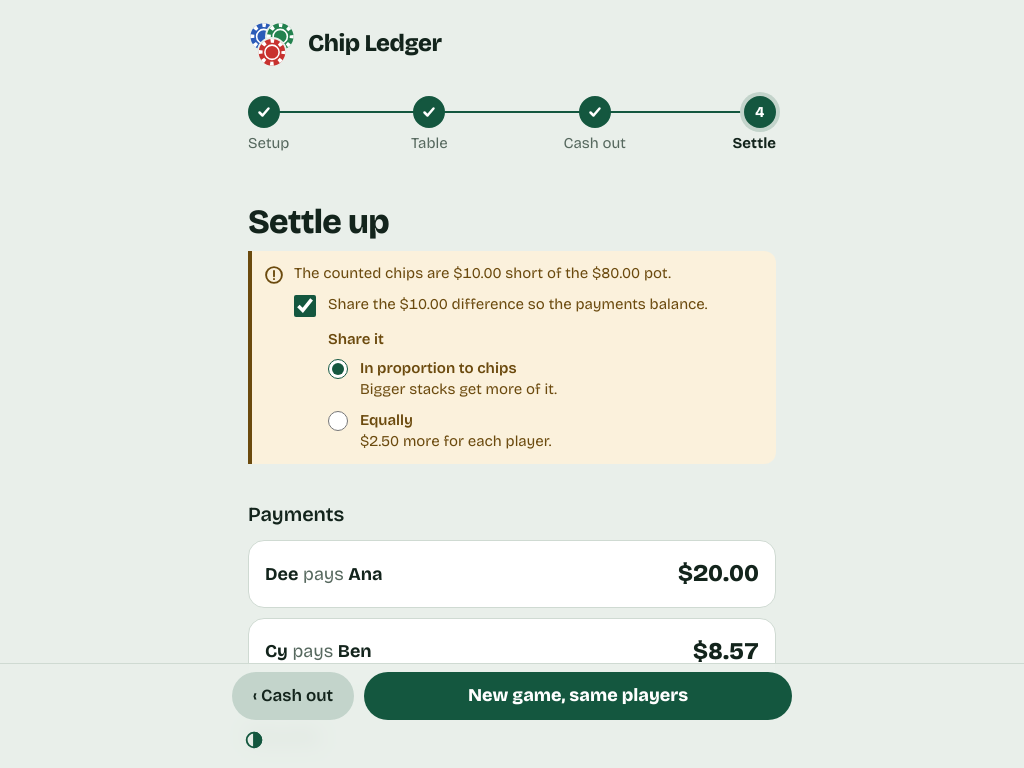
Scenario: ChipLedgerApp › REQ-0001-18 … -22: settles, toggles spreading, and copies results
expect the heading "Settle up" is shown: met, box [248,201,389,242]
expect the text "The counted chips are $10.00 short of the $80.00 pot." is shown: met, box [294,264,671,282]
Click the radio button labelled "Equally $2.50 more for each player.". click: [338, 421]
box: [328,411,348,431]
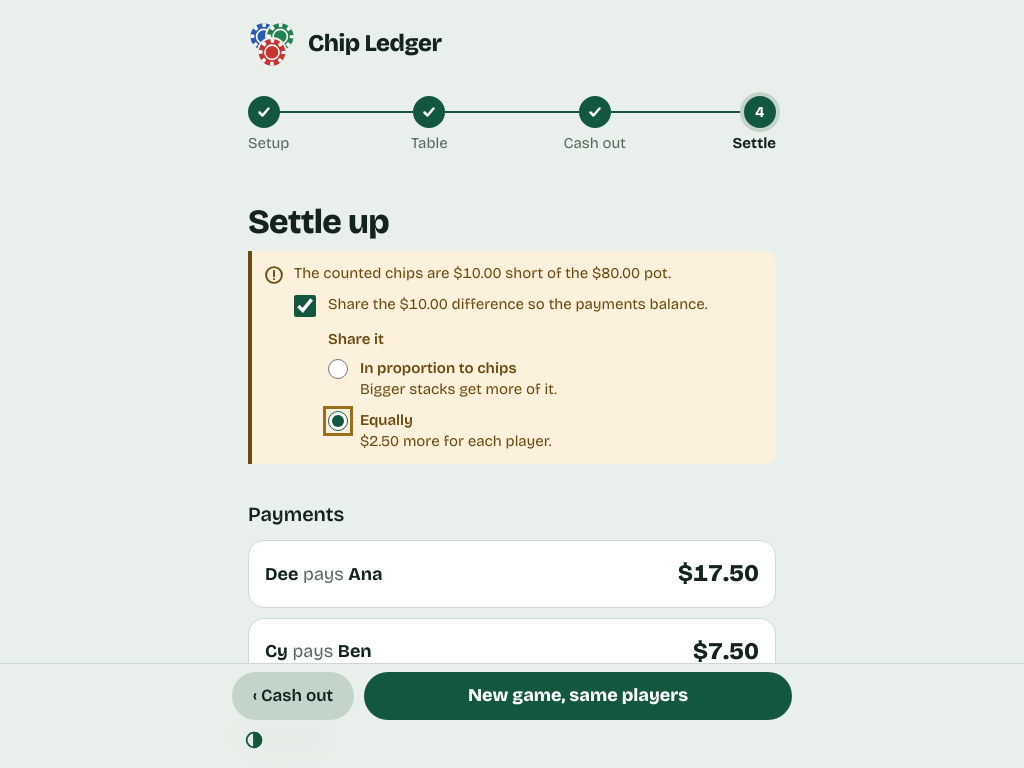
expect the radio button labelled "Equally $2.50 more for each player." is checked: met, box [328,411,348,431]
expect the list item "Dee pays Ana $17.50" is shown: met, box [248,540,776,608]
Click the checkbox labelled "Share the $10.00 difference so the payments balance.". click: [305, 306]
box: [294,295,316,317]
(page scrolled)
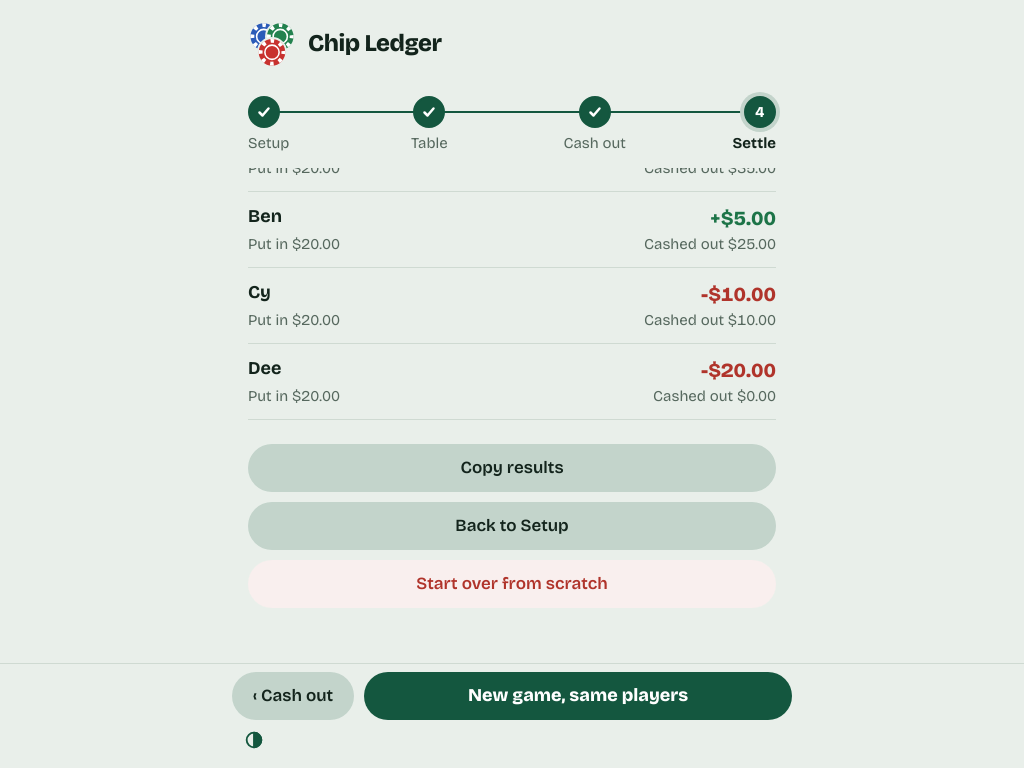
expect the text "+$15.00" is shown: met, box [698,130,776,154]
expect the text "Share it" is gone: met
Click the button "Copy results". click: [512, 468]
box: [248,444,776,492]
(page scrolled)
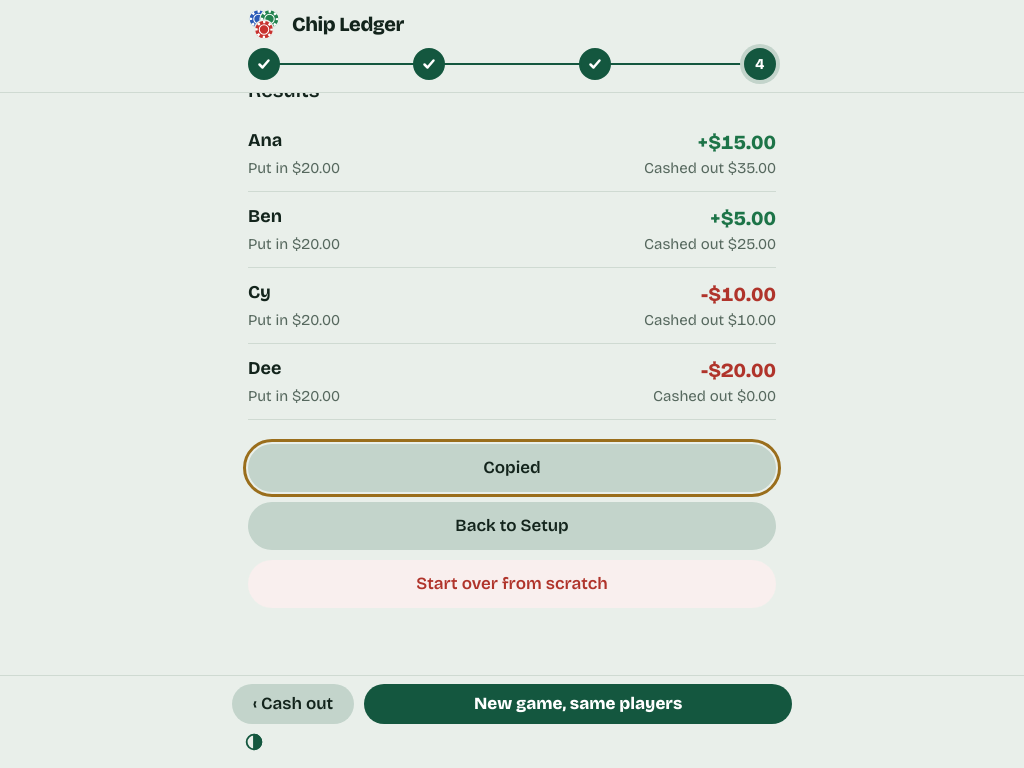
expect the button "Copied" is shown: met, box [248,444,776,492]
